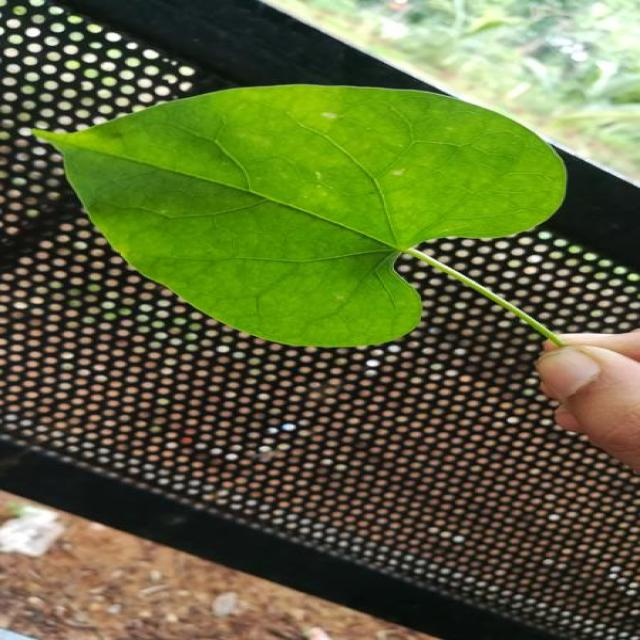Amruthaballi: (37, 85, 565, 346)
